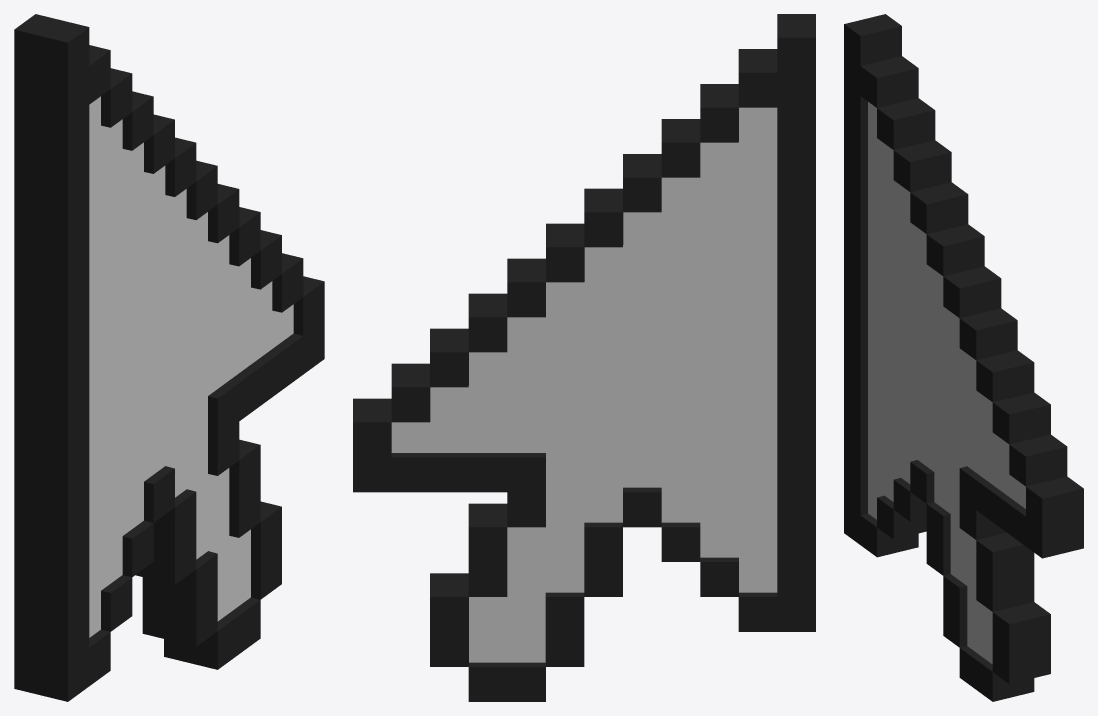
The model's file is cursor2.glb.
3 renders of one model, left to right at view 1: azimuth 30°, elevation 25°; view 2: azimuth 150°, elevation 25°; view 3: azimuth 270°, elevation 25°, orthographic. The views are drawn at different scales.
Visible parts, largest first — view 1: arrow_cursor; view 2: arrow_cursor; view 3: arrow_cursor.
Boxes of the visible parts, bbox=[...] form: arrow_cursor: bbox=[14, 14, 324, 701]; arrow_cursor: bbox=[353, 14, 815, 701]; arrow_cursor: bbox=[844, 14, 1083, 701].
Size of the model in its own units: 0.4206 by 0.7189 by 0.2746.
1 material, 1 textured.
